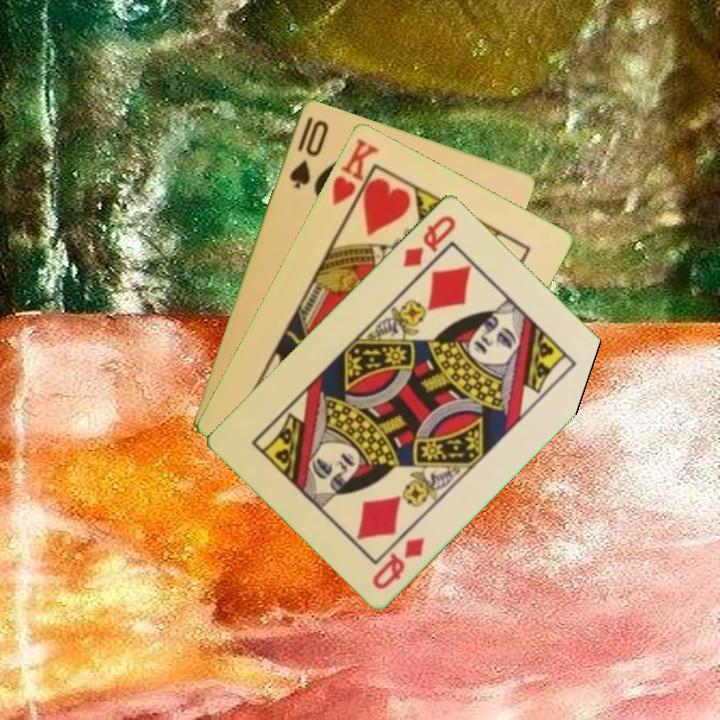10s: (285, 111, 332, 191)
Kh: (328, 134, 382, 219)
Qd: (399, 211, 459, 270), (368, 533, 428, 592)
